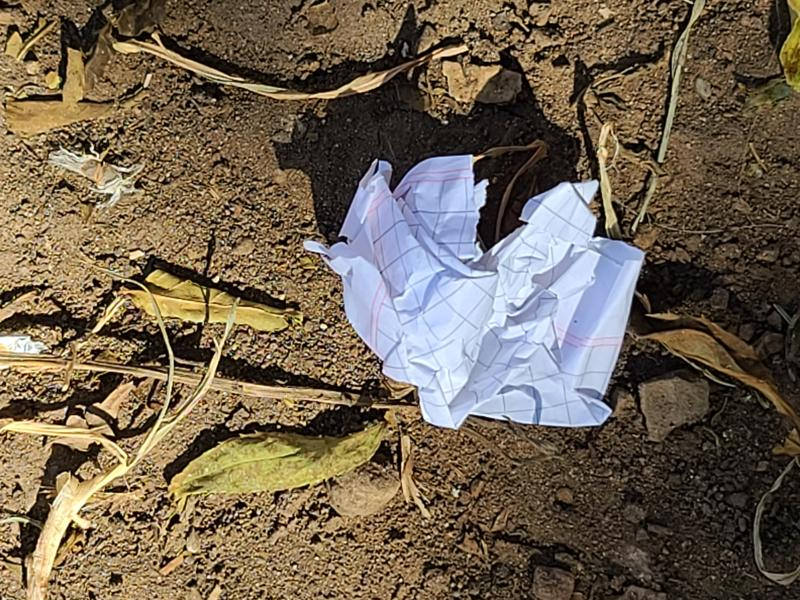papel: (304, 155, 645, 431)
